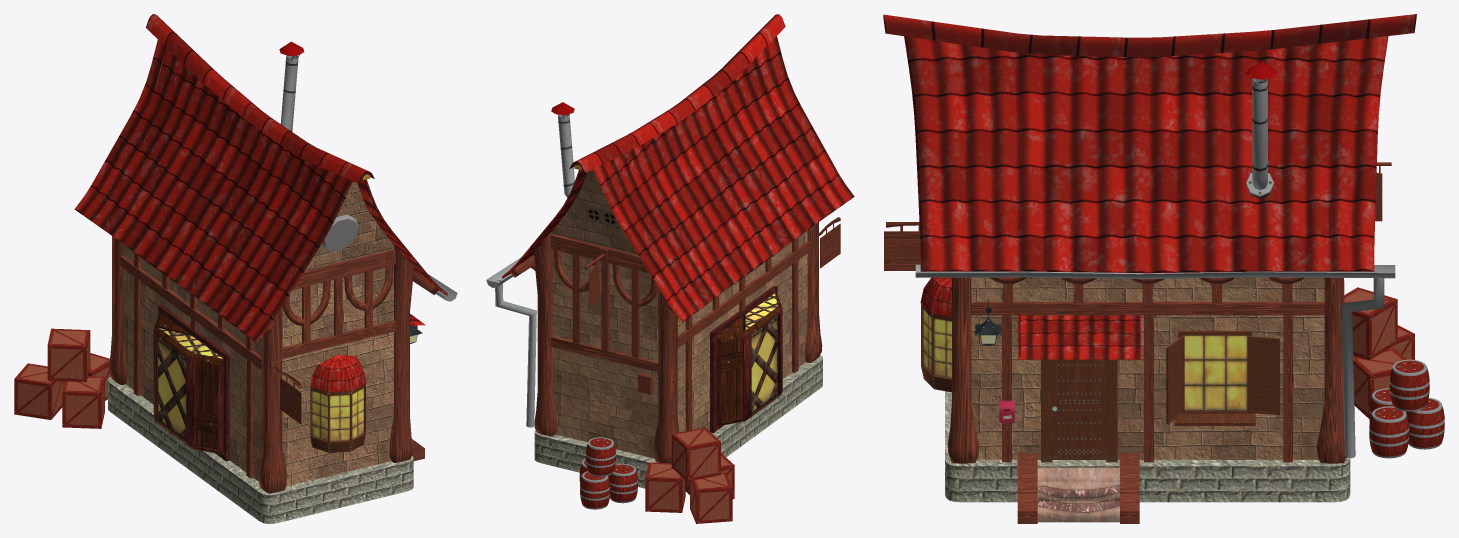
Rendered from House2.fbx.
3 renders of one model, left to right at view 1: azimuth 30°, elevation 25°; view 2: azimuth 150°, elevation 25°; view 3: azimuth 270°, elevation 25°, orthographic. The views are drawn at different scales.
Visible parts, largest first — view 1: Combined_House2_Mesh_6, Combined_House2_Mesh_1, Combined_House2_Mesh_4, Combined_House2_Mesh_3, Combined_House2_Mesh_15, Combined_House2_Mesh_8, Combined_House2_Mesh_9, Combined_House2_Mesh_10, Combined_House2_Mesh, Combined_House2_Mesh_14; view 2: Combined_House2_Mesh_6, Combined_House2_Mesh_1, Combined_House2_Mesh_4, Combined_House2_Mesh_15, Combined_House2_Mesh_8, Combined_House2_Mesh_3, Combined_House2_Mesh_12, Combined_House2_Mesh_18, Combined_House2_Mesh_10, Combined_House2_Mesh_14, Combined_House2_Mesh_17; view 3: Combined_House2_Mesh_6, Combined_House2_Mesh_1, Combined_House2_Mesh_4, Combined_House2_Mesh_3, Combined_House2_Mesh_2, Combined_House2_Mesh_5, Combined_House2_Mesh_18, Combined_House2_Mesh_12, Combined_House2_Mesh_8, Combined_House2_Mesh_11, Combined_House2_Mesh_9, Combined_House2_Mesh_10.
Part boxes in pixels (x1,y1,x2,y2): Combined_House2_Mesh_6: (74,14,447,342); Combined_House2_Mesh_1: (124,57,394,486); Combined_House2_Mesh_4: (108,236,438,493); Combined_House2_Mesh_3: (108,377,413,523); Combined_House2_Mesh_15: (153,305,229,461); Combined_House2_Mesh_8: (14,328,110,428); Combined_House2_Mesh_9: (310,354,366,452); Combined_House2_Mesh_10: (279,41,304,131); Combined_House2_Mesh: (322,214,358,251); Combined_House2_Mesh_14: (357,179,445,294); Combined_House2_Mesh_6: (502,14,854,322); Combined_House2_Mesh_1: (552,169,807,458); Combined_House2_Mesh_4: (510,217,840,463); Combined_House2_Mesh_15: (710,285,782,433); Combined_House2_Mesh_8: (645,427,734,523); Combined_House2_Mesh_3: (534,355,822,488); Combined_House2_Mesh_12: (579,437,637,509); Combined_House2_Mesh_18: (486,257,536,427); Combined_House2_Mesh_10: (551,102,574,197); Combined_House2_Mesh_14: (503,170,586,278); Combined_House2_Mesh_17: (585,205,618,227); Combined_House2_Mesh_6: (883,14,1416,359); Combined_House2_Mesh_1: (971,277,1324,459); Combined_House2_Mesh_4: (884,162,1391,523); Combined_House2_Mesh_3: (945,391,1350,502); Combined_House2_Mesh_2: (1166,330,1279,425); Combined_House2_Mesh_5: (1041,359,1117,462); Combined_House2_Mesh_18: (915,264,1395,458); Combined_House2_Mesh_12: (1369,359,1444,458); Combined_House2_Mesh_8: (1344,287,1414,418); Combined_House2_Mesh_11: (1037,467,1119,522); Combined_House2_Mesh_9: (920,277,951,392); Combined_House2_Mesh_10: (1246,61,1277,198).
Bounding box in the file's own units: 781 × 997 × 1148.
